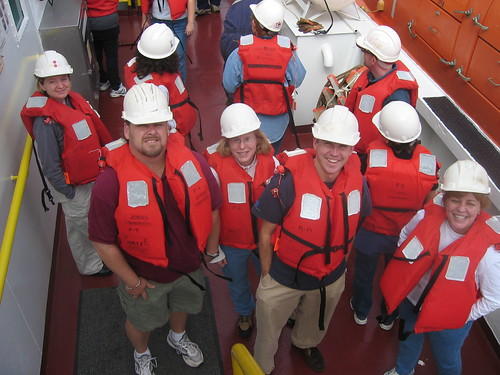person hardhat: (121, 84, 172, 157), (311, 105, 361, 175), (441, 160, 491, 229), (219, 103, 261, 163), (374, 101, 421, 151), (136, 23, 181, 72), (33, 50, 75, 100), (357, 26, 401, 72), (249, 1, 285, 36)
